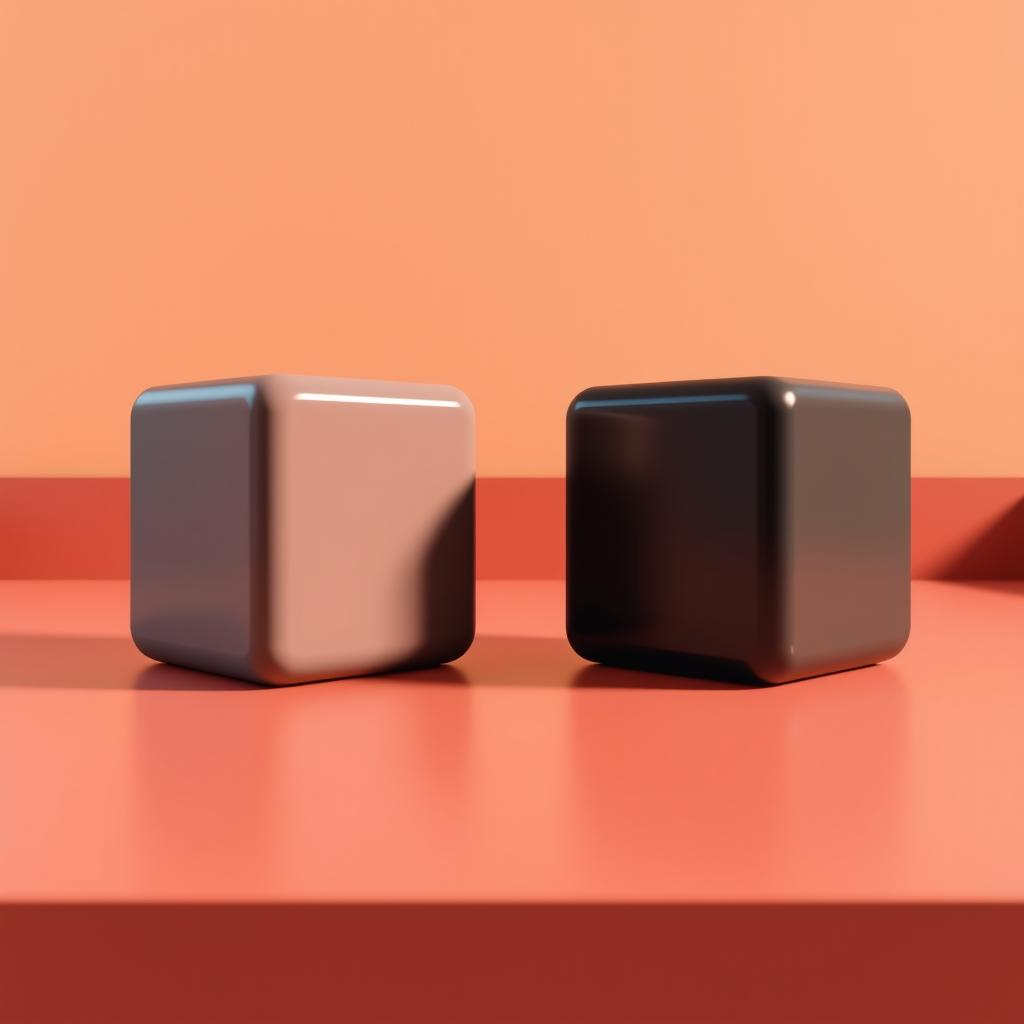cube: (128, 372, 476, 686), (564, 374, 911, 685)
